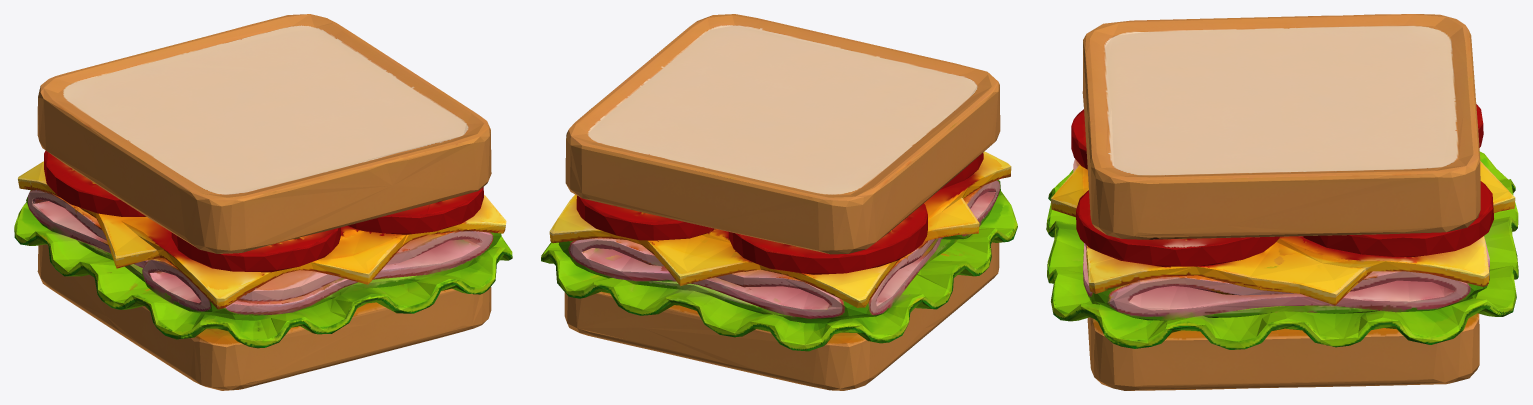
File: Sandwich.glb
3 views of the same model, side by side, from view 1: azimuth 30°, elevation 25°; view 2: azimuth 150°, elevation 25°; view 3: azimuth 270°, elevation 25° (orthographic). The views are drawn at different scales.
Parts seen in each view (by area): view 1: geometry_0; view 2: geometry_0; view 3: geometry_0.
Boxes of the visible parts, x1=… form: geometry_0: x1=14, y1=14, x2=512, y2=390; geometry_0: x1=541, y1=14, x2=1017, y2=390; geometry_0: x1=1046, y1=14, x2=1518, y2=390.
Bounding box in the file's own units: 0.9914 × 0.5031 × 0.9973.
Materials: 1 (1 with a texture image).
